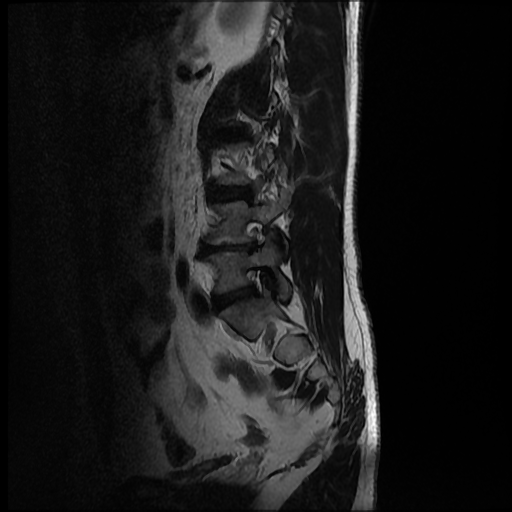LFS0: (234, 212, 272, 258)
LFS1: (238, 258, 276, 303)
